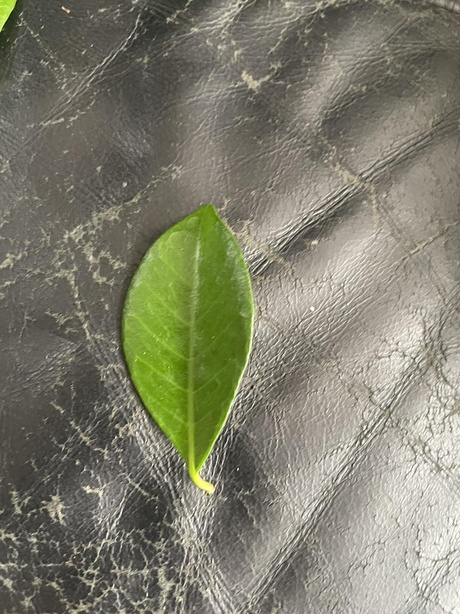leaf: (115, 198, 259, 474)
